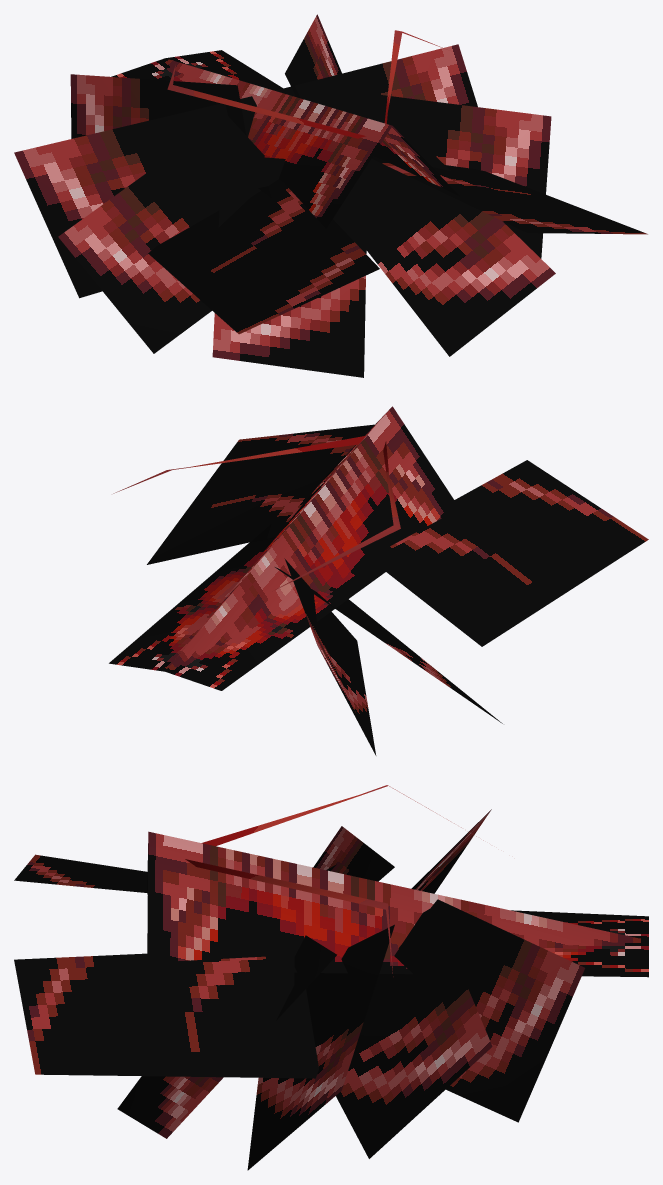
3 renders of one model, top to bottom at view 1: azimuth 30°, elevation 25°; view 2: azimuth 150°, elevation 25°; view 3: azimuth 270°, elevation 25°, orthographic. The views are drawn at different scales.
Visible parts, largest first — view 1: 4824fish34; view 2: 4824fish34; view 3: 4824fish34.
Part boxes in pixels (x1,y1,x2,y2): 4824fish34: (14, 14, 647, 377); 4824fish34: (109, 406, 648, 755); 4824fish34: (14, 785, 648, 1170).
Size of the model in its own units: 0.625 by 0.28 by 0.6333.
Materials: 2 (2 with a texture image).
